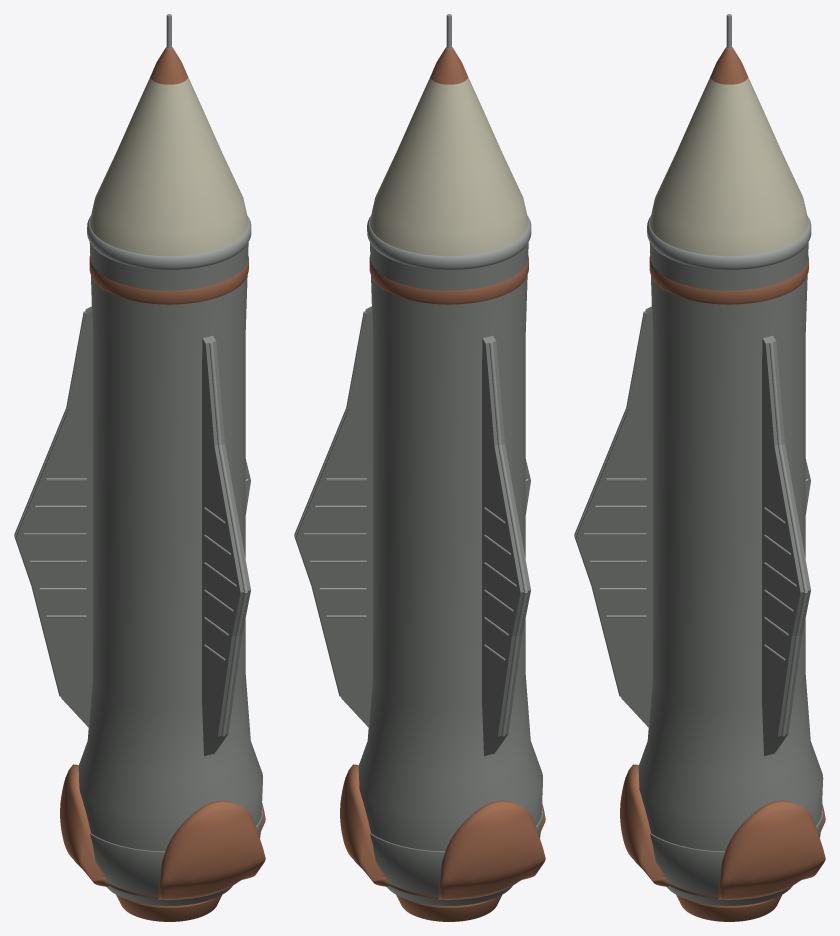
3 renders of one model, left to right at view 1: azimuth 30°, elevation 25°; view 2: azimuth 150°, elevation 25°; view 3: azimuth 270°, elevation 25°, orthographic.
Visible parts, largest first — view 1: Mega cylindrical pressure casing, Mega ivory nose cone, Mega solid diamond vane.002, Mega solid diamond vane, Mega thick copper lower panel, Mega hollow lower casing, Mega thick copper lower panel.002, Mega upper silver nose collar, Mega copper nose retaining band, Mega hollow copper nozzle, Mega copper nose tip, Mega vane edge rail.001; view 2: Mega cylindrical pressure casing, Mega ivory nose cone, Mega solid diamond vane.001, Mega solid diamond vane.002, Mega thick copper lower panel.002, Mega hollow lower casing, Mega thick copper lower panel.001, Mega upper silver nose collar, Mega copper nose retaining band, Mega hollow copper nozzle, Mega copper nose tip, Mega vane edge rail.009; view 3: Mega cylindrical pressure casing, Mega ivory nose cone, Mega solid diamond vane, Mega solid diamond vane.001, Mega thick copper lower panel.001, Mega hollow lower casing, Mega thick copper lower panel, Mega upper silver nose collar, Mega copper nose retaining band, Mega hollow copper nozzle, Mega copper nose tip, Mega vane edge rail.005.
Boxes of the visible parts, <box> form: Mega cylindrical pressure casing: <box>78,242,262,851</box>; Mega ivory nose cone: <box>90,76,248,256</box>; Mega solid diamond vane.002: <box>16,306,92,727</box>; Mega solid diamond vane: <box>202,335,250,756</box>; Mega thick copper lower panel: <box>158,800,265,899</box>; Mega hollow lower casing: <box>90,807,262,905</box>; Mega thick copper lower panel.002: <box>60,764,109,886</box>; Mega upper silver nose collar: <box>87,216,251,269</box>; Mega copper nose retaining band: <box>89,255,248,304</box>; Mega hollow copper nozzle: <box>116,895,221,921</box>; Mega copper nose tip: <box>150,47,187,84</box>; Mega vane edge rail.001: <box>218,445,247,591</box>; Mega cylindrical pressure casing: <box>358,242,542,851</box>; Mega ivory nose cone: <box>370,76,528,256</box>; Mega solid diamond vane.001: <box>296,306,372,727</box>; Mega solid diamond vane.002: <box>482,335,530,756</box>; Mega thick copper lower panel.002: <box>438,800,545,899</box>; Mega hollow lower casing: <box>370,808,542,905</box>; Mega thick copper lower panel.001: <box>340,764,389,886</box>; Mega upper silver nose collar: <box>367,215,531,269</box>; Mega copper nose retaining band: <box>369,255,528,304</box>; Mega hollow copper nozzle: <box>396,895,501,921</box>; Mega copper nose tip: <box>430,47,467,84</box>; Mega vane edge rail.009: <box>498,445,527,591</box>; Mega cylindrical pressure casing: <box>638,242,823,851</box>; Mega ivory nose cone: <box>650,76,808,256</box>; Mega solid diamond vane: <box>576,306,652,727</box>; Mega solid diamond vane.001: <box>762,335,810,756</box>; Mega thick copper lower panel.001: <box>718,800,825,899</box>; Mega hollow lower casing: <box>650,808,822,905</box>; Mega thick copper lower panel: <box>620,764,669,886</box>; Mega upper silver nose collar: <box>647,216,811,269</box>; Mega copper nose retaining band: <box>649,255,808,304</box>; Mega hollow copper nozzle: <box>676,895,781,921</box>; Mega copper nose tip: <box>710,47,747,84</box>; Mega vane edge rail.005: <box>778,445,807,591</box>.
Bounding box in the file's own units: 1.79 × 6.46 × 1.66.
